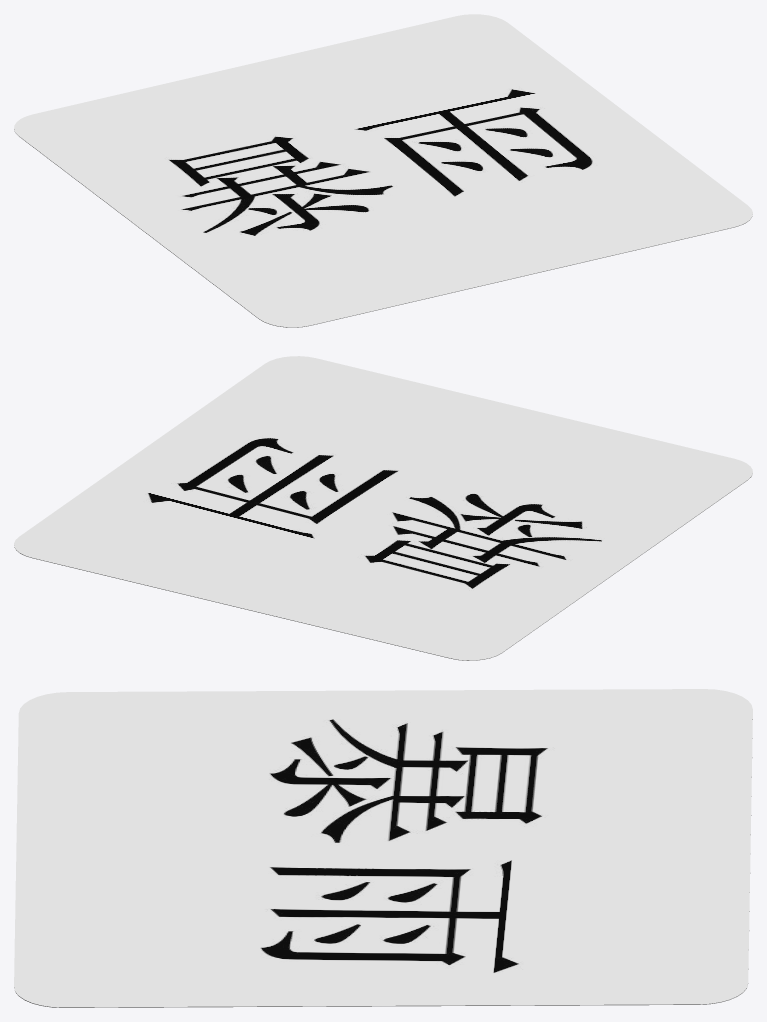
The model's file is BaoYu 1.FBX.
3 views of the same model, one above another, from view 1: azimuth 30°, elevation 25°; view 2: azimuth 150°, elevation 25°; view 3: azimuth 270°, elevation 25° (orthographic). The views are drawn at different scales.
Visible parts, largest first — view 1: Rectangle001; view 2: Rectangle001; view 3: Rectangle001.
Part boxes in pixels (bbox=[...]): Rectangle001: bbox=[14, 14, 752, 327]; Rectangle001: bbox=[14, 356, 752, 660]; Rectangle001: bbox=[14, 689, 752, 1007].
Bounding box in the file's own units: 60.39 × 0.996 × 60.38.
